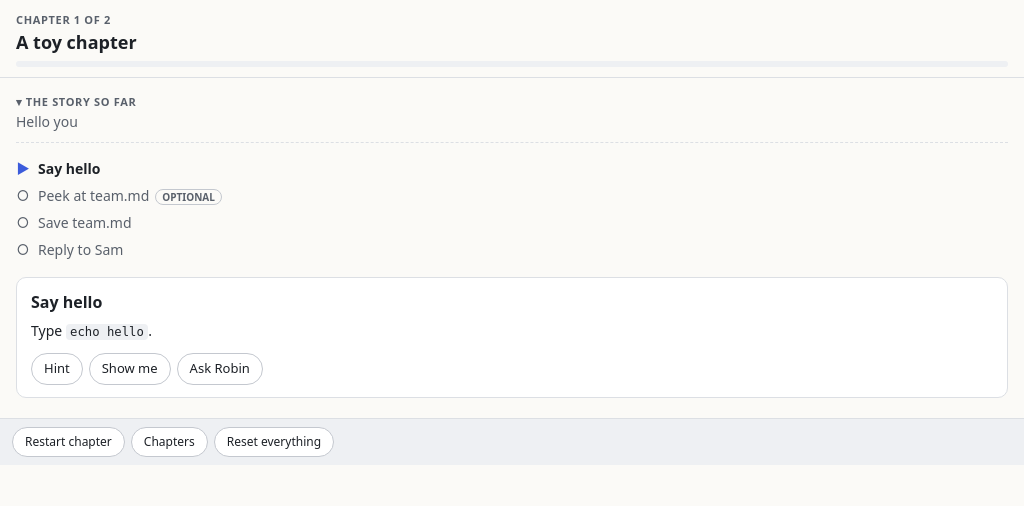
Test: Instructions panel › copies inline code when you click it
Step 1. Click the button "echo hello" → {"x": 107, "y": 332}, box [66,324,148,340]
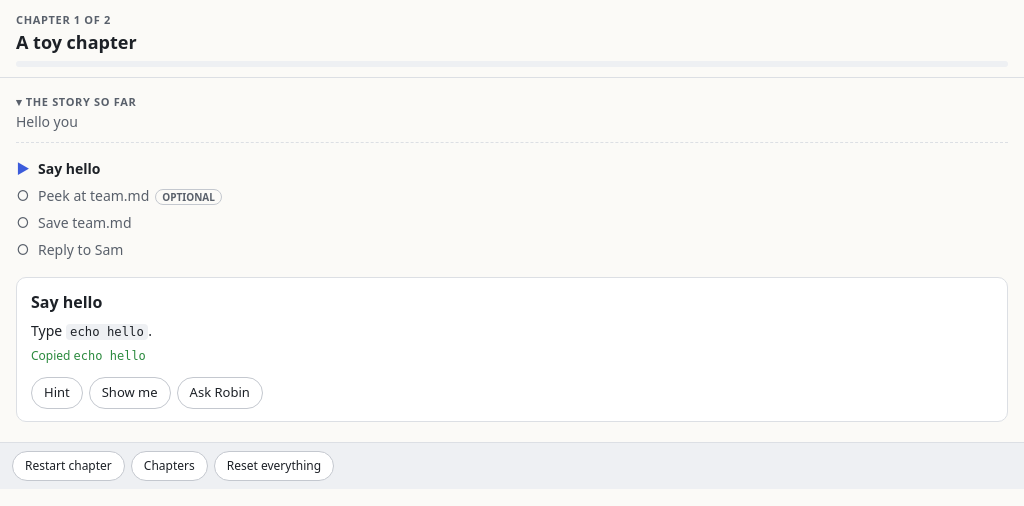
Check: the message reads "Copied echo hello", box [31,347,146,364]
